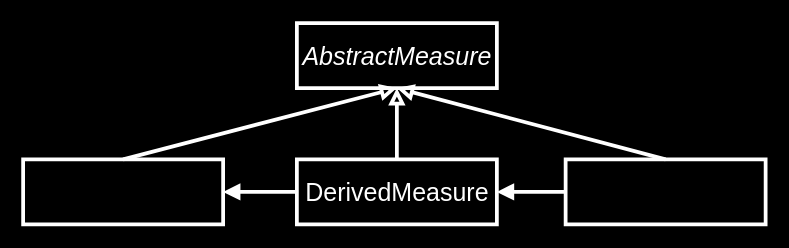
Some shapes in this 789 by 248 pixel diagram are drawn without their labels. Each missing label, with the box of its shape:
AtomicMeasure: (21, 157, 224, 226)
CombineMeasure: (563, 157, 767, 226)
